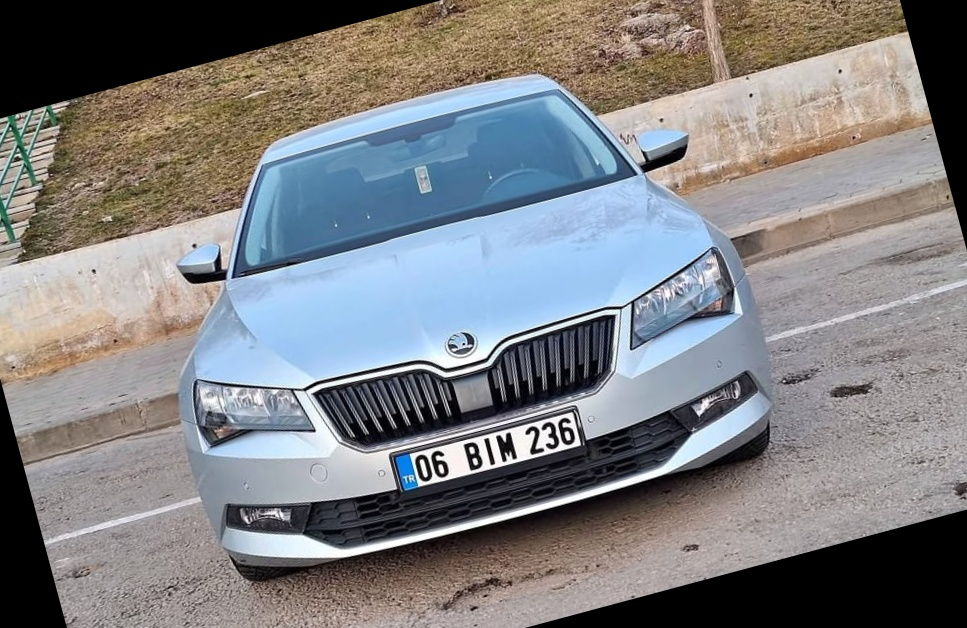plaka: (394, 414, 583, 486)
